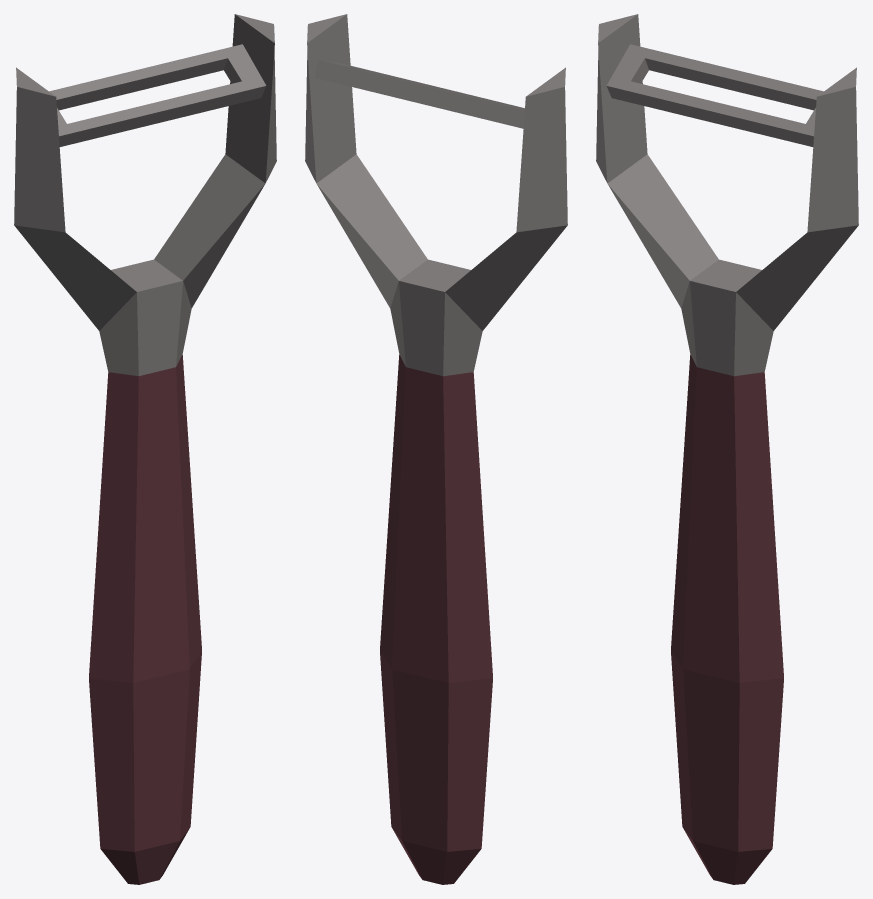
Rendered from dishes-peeler.glb.
3 renders of one model, left to right at view 1: azimuth 30°, elevation 25°; view 2: azimuth 150°, elevation 25°; view 3: azimuth 330°, elevation 25°, orthographic.
Visible parts, largest first — view 1: peeler; view 2: peeler; view 3: peeler.
Part boxes in pixels (x1=…): peeler: x1=14, y1=14, x2=276, y2=884; peeler: x1=305, y1=14, x2=567, y2=884; peeler: x1=596, y1=14, x2=858, y2=884.
Bounding box in the file's own units: 0.0612 × 0.1835 × 0.0162.
